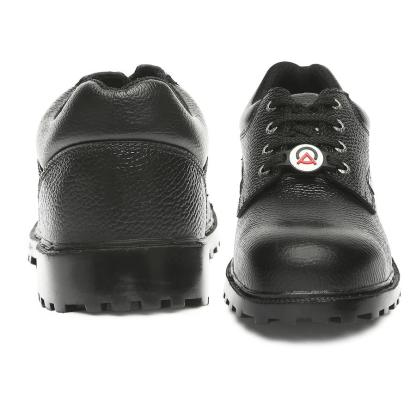bota: (22, 60, 224, 316), (218, 57, 404, 332)
